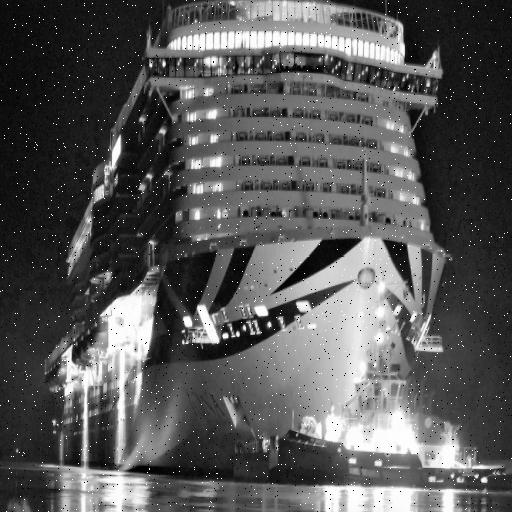cruises: (37, 1, 454, 501)
